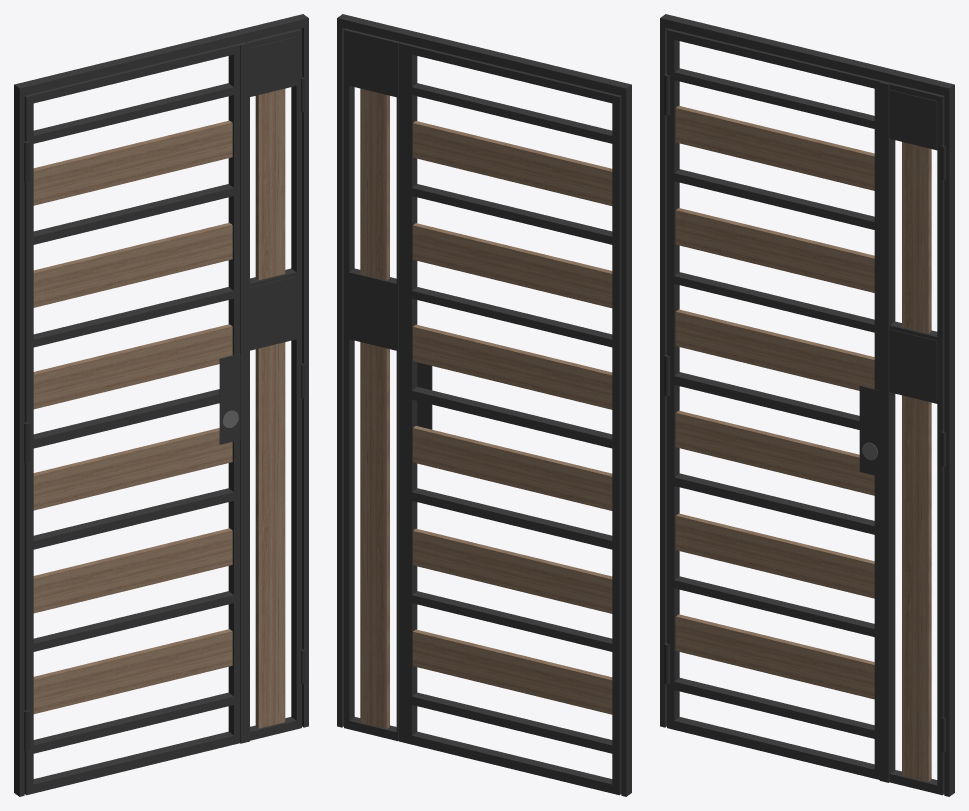
Rendered from gate-3.glb.
The picture shows the model from 3 angles, left to right: view 1: azimuth 30°, elevation 25°; view 2: azimuth 150°, elevation 25°; view 3: azimuth 330°, elevation 25°; orthographic projection.
Visible parts, largest first — view 1: Cube.003; view 2: Cube.003; view 3: Cube.003.
Part boxes in pixels (x1=…): Cube.003: x1=14, y1=14, x2=308, y2=796; Cube.003: x1=337, y1=14, x2=631, y2=796; Cube.003: x1=660, y1=14, x2=954, y2=796.
Bounding box in the file's own units: 0.91 × 2.13 × 0.0374.
Materials: 4 (1 with a texture image).
